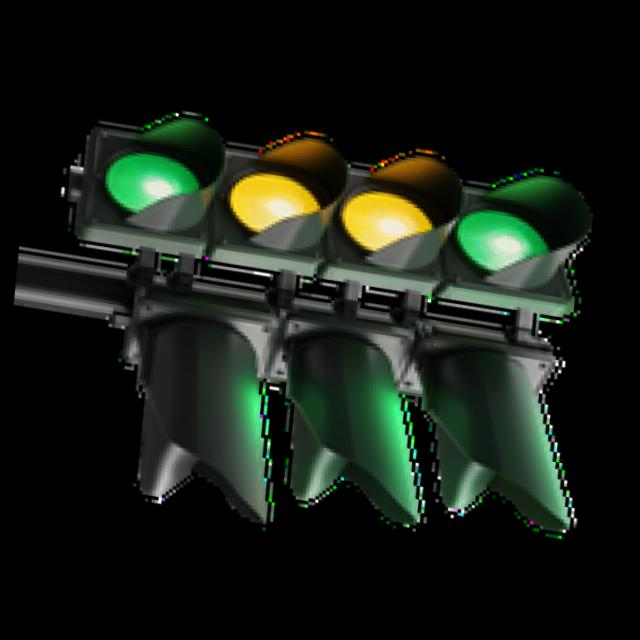green_light: (37, 76, 242, 309), (443, 154, 580, 311)
yellow_light: (333, 59, 487, 338), (171, 104, 357, 320)
